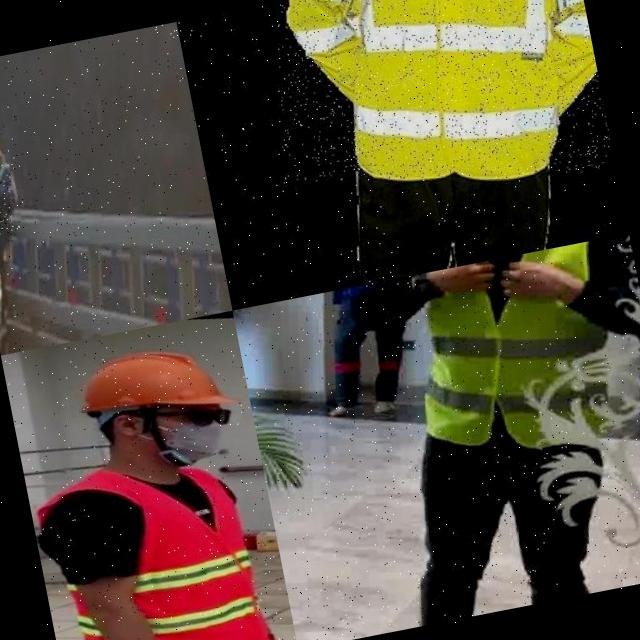helmet: (66, 324, 246, 441)
vest: (249, 0, 617, 235), (389, 237, 640, 479), (23, 425, 295, 640), (0, 158, 24, 248)
